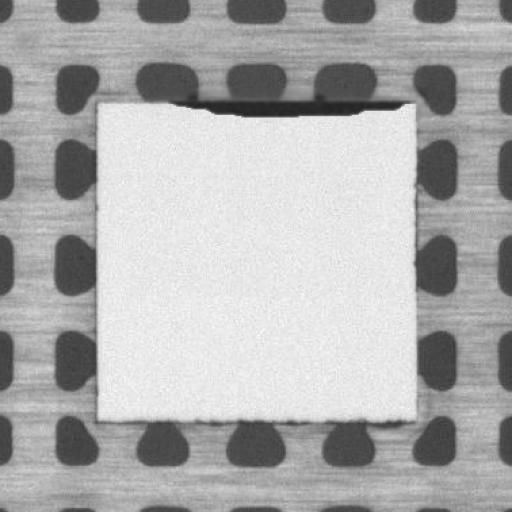DIE_BROKEN: (173, 96, 409, 119)
